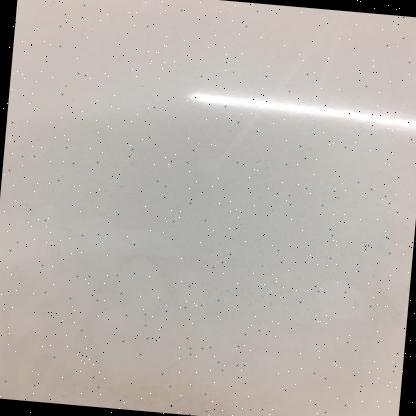Nocrack: (27, 1, 396, 415)
